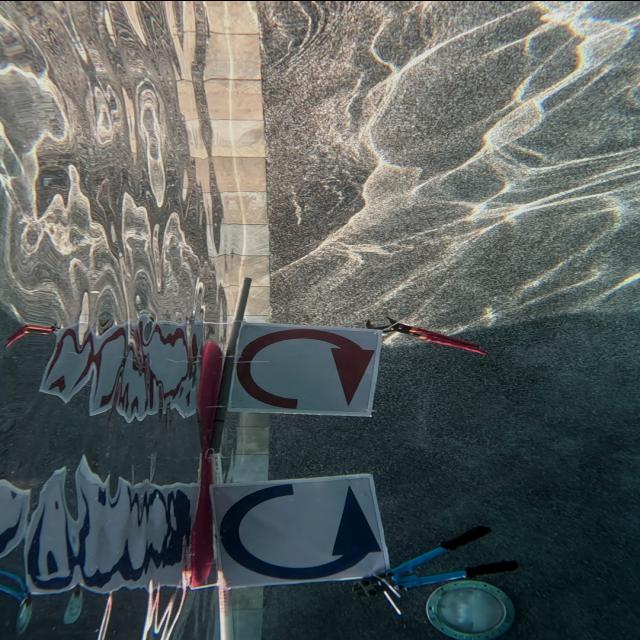blue_side: (220, 476, 382, 588)
red_side: (224, 324, 380, 413)
